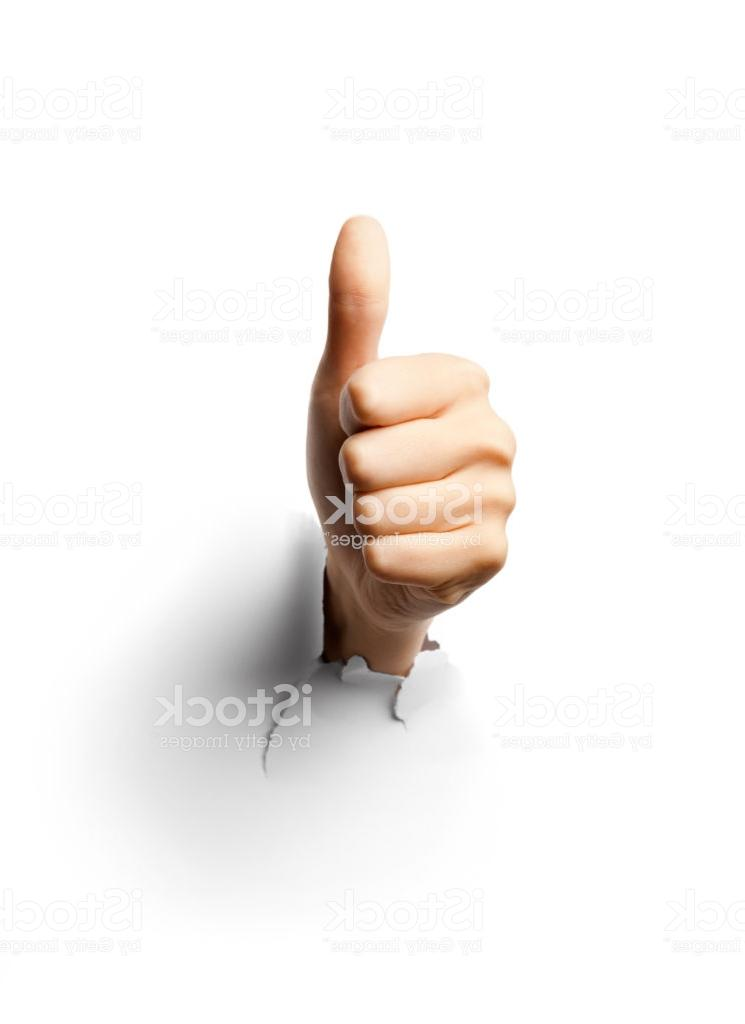thumbsup: (302, 213, 518, 620)
